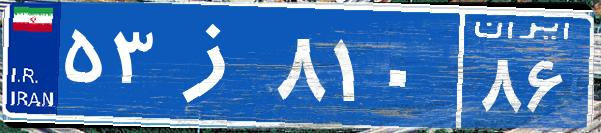0: (385, 28, 445, 110)
1: (330, 28, 385, 110)
3: (110, 28, 158, 105)
5: (57, 26, 110, 107)
6: (525, 38, 570, 115)
8: (273, 28, 330, 110), (475, 38, 525, 113)
ز: (158, 15, 273, 115)
